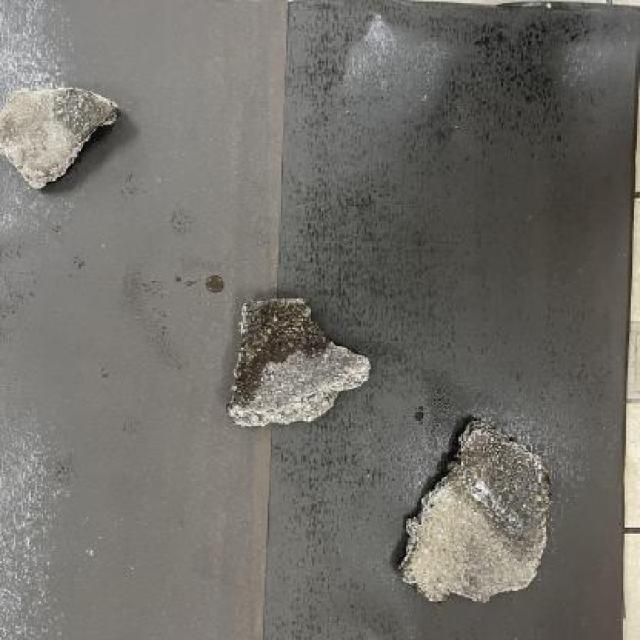Road Debris: (446, 425, 551, 567), (231, 295, 334, 403), (49, 86, 118, 136)
